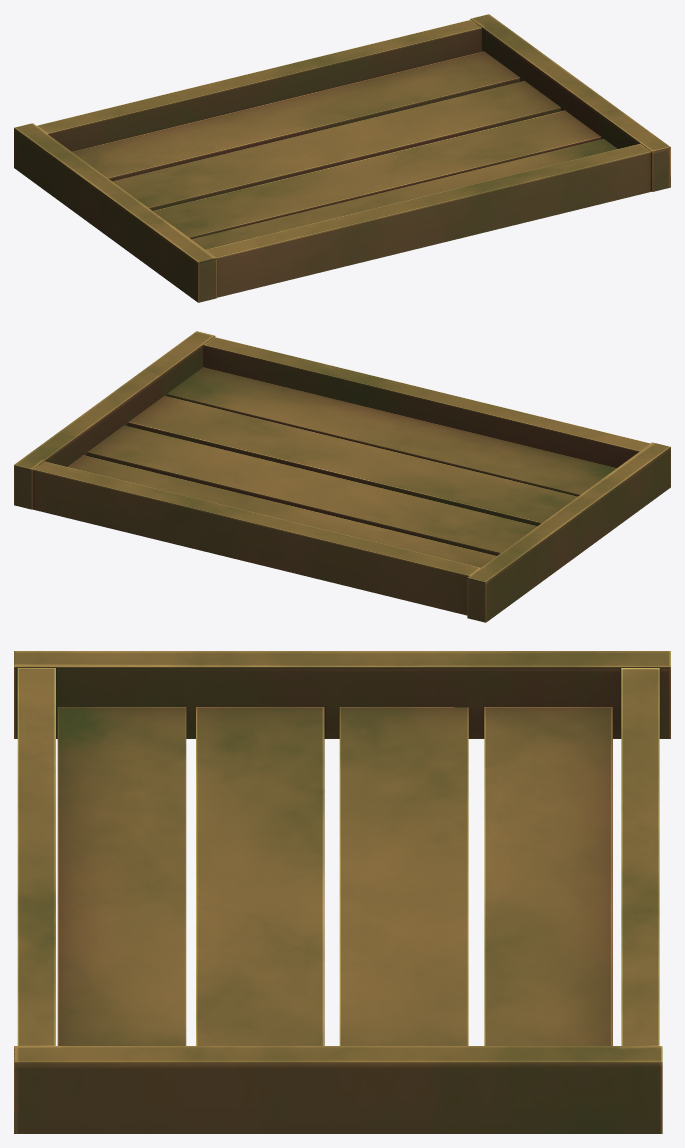
Rendered from box_sell_fish.fbx.
The picture shows the model from 3 angles, top to bottom: view 1: azimuth 30°, elevation 25°; view 2: azimuth 150°, elevation 25°; view 3: azimuth 270°, elevation 25°; orthographic projection. The views are drawn at different scales.
Visible parts, largest first — view 1: Cube.007; view 2: Cube.007; view 3: Cube.007.
Part boxes in pixels (left/top/right/bottom): Cube.007: left=14, top=14, right=670, bottom=302; Cube.007: left=14, top=331, right=670, bottom=622; Cube.007: left=14, top=651, right=670, bottom=1133.
Size of the model in its own units: 801 by 67.71 by 541.
1 material, 1 textured.
